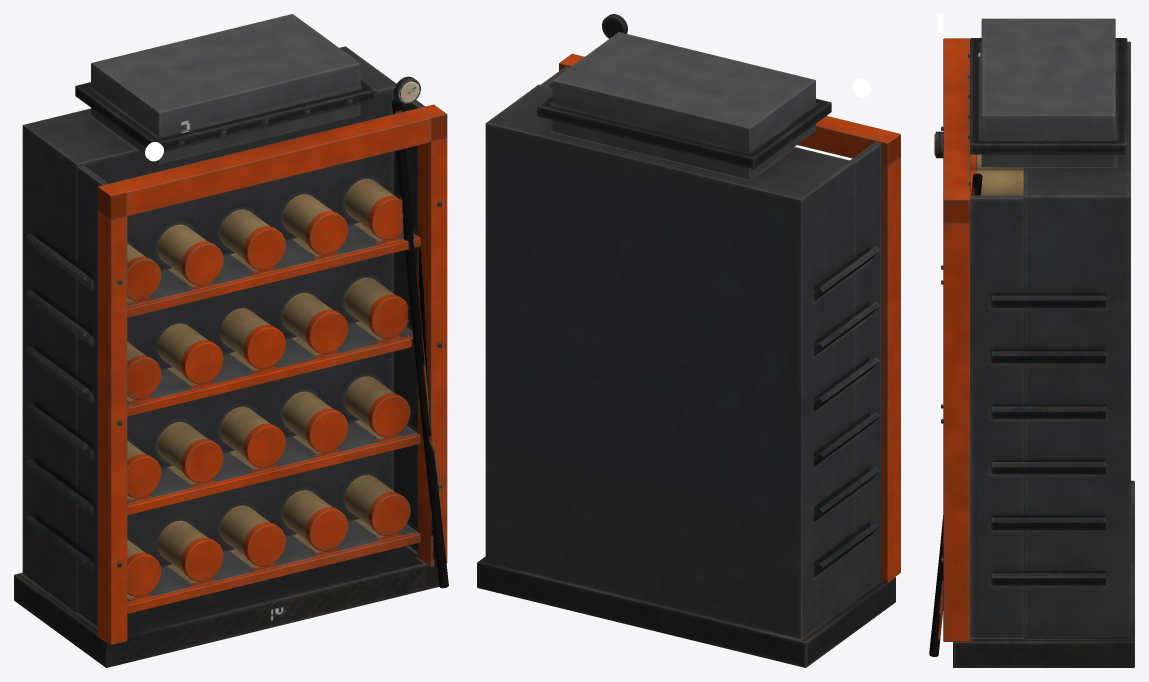
The model's file is air_scrubber.glb.
3 renders of one model, left to right at view 1: azimuth 30°, elevation 25°; view 2: azimuth 150°, elevation 25°; view 3: azimuth 270°, elevation 25°, orthographic. The views are drawn at different scales.
Visible parts, largest first — view 1: air_scrubber; view 2: air_scrubber; view 3: air_scrubber.
Boxes of the visible parts, left/top/right/bottom form: air_scrubber: left=14, top=14, right=448, bottom=667; air_scrubber: left=477, top=14, right=900, bottom=667; air_scrubber: left=929, top=14, right=1134, bottom=667.
Size of the model in its own units: 2.03 by 3 by 1.07.
2 materials, 2 textured.
